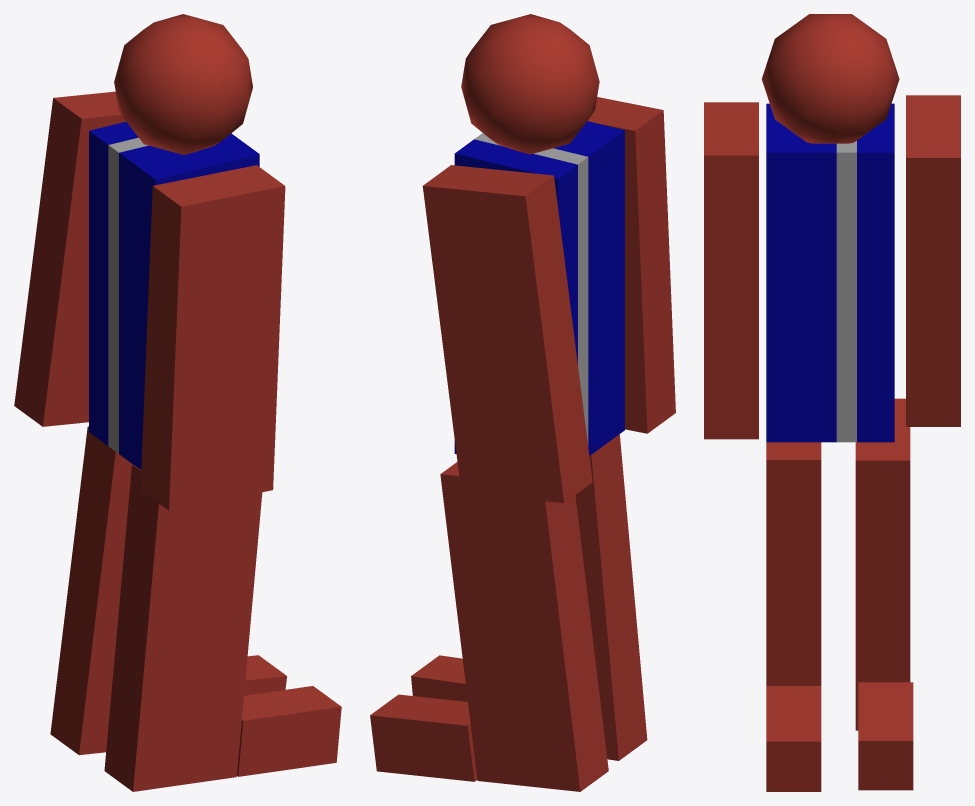
Rendered from player_000098.obj.
3 renders of one model, left to right at view 1: azimuth 30°, elevation 25°; view 2: azimuth 150°, elevation 25°; view 3: azimuth 270°, elevation 25°, orthographic. The views are drawn at different scales.
Parts seen in each view (by area): view 1: Cube.005, Cube.001, Cube, Cube.006, Cube.002, Icosphere, Cube.003, Cube.004; view 2: Cube.006, Cube.002, Cube, Cube.005, Icosphere, Cube.001, Cube.004, Cube.003; view 3: Cube, Cube.005, Cube.006, Cube.002, Icosphere, Cube.001, Cube.004, Cube.003.
Part boxes in pixels (box(x1,y1,x2,y2)): Cube.005: box(140, 165, 285, 510); Cube.001: box(104, 464, 262, 791); Cube: box(89, 121, 259, 469); Cube.006: box(14, 91, 125, 426); Cube.002: box(50, 426, 132, 755); Icosphere: box(114, 14, 252, 154); Cube.003: box(237, 686, 341, 776); Cube.004: box(244, 655, 286, 695); Cube.006: box(422, 165, 592, 502); Cube.002: box(440, 462, 608, 791); Cube: box(454, 121, 624, 455); Cube.005: box(588, 97, 675, 433); Icosphere: box(461, 14, 599, 154); Cube.001: box(575, 434, 647, 760); Cube.004: box(370, 694, 477, 781); Cube.003: box(411, 655, 467, 701); Cube: box(766, 103, 894, 442); Cube.005: box(704, 102, 758, 439); Cube.006: box(906, 95, 960, 426); Cube.002: box(855, 398, 910, 730); Icosphere: box(762, 14, 899, 143); Cube.001: box(766, 442, 821, 685); Cube.004: box(858, 682, 913, 790); Cube.003: box(766, 686, 821, 791).
Size of the model in its own units: 0.8947 by 2.83 by 0.9137.
